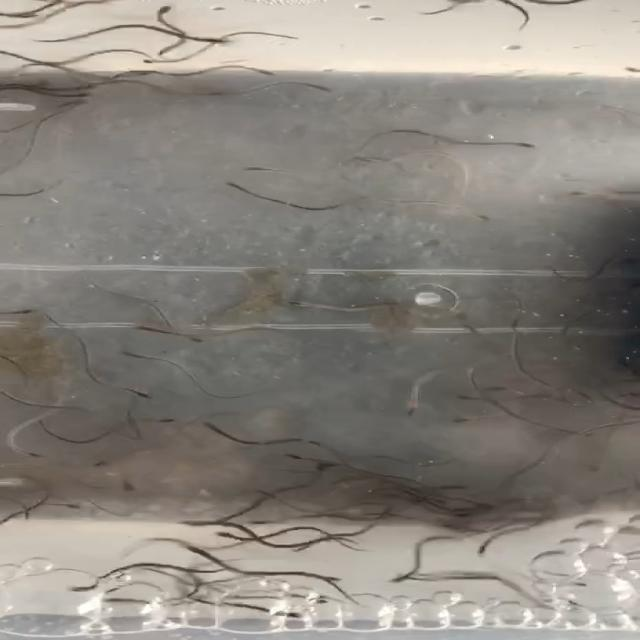active_glass_eel: (383, 568, 429, 586), (558, 183, 605, 199), (274, 608, 321, 624), (121, 385, 162, 403), (104, 476, 144, 494), (174, 517, 234, 529), (68, 579, 104, 598), (273, 296, 321, 310), (454, 210, 504, 222), (177, 328, 210, 346), (120, 349, 156, 365), (140, 413, 184, 426), (90, 453, 123, 470), (3, 307, 43, 321), (200, 35, 239, 49), (274, 451, 316, 464), (442, 508, 476, 524), (306, 80, 336, 98), (100, 593, 136, 608), (438, 480, 476, 494), (501, 141, 548, 152), (140, 53, 176, 67), (244, 62, 280, 76), (208, 528, 244, 542), (58, 81, 103, 92), (401, 396, 423, 418), (13, 445, 45, 460), (294, 593, 328, 606), (58, 88, 94, 100), (196, 418, 223, 434), (472, 540, 496, 558), (446, 417, 488, 427), (242, 518, 284, 528), (149, 4, 175, 20), (293, 539, 320, 554), (222, 178, 245, 194), (135, 322, 165, 334), (447, 392, 482, 402), (64, 500, 90, 513), (236, 166, 267, 175)
